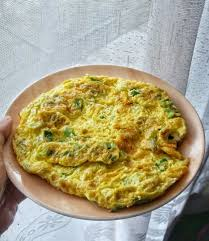Telur dadar: (12, 74, 190, 208)
